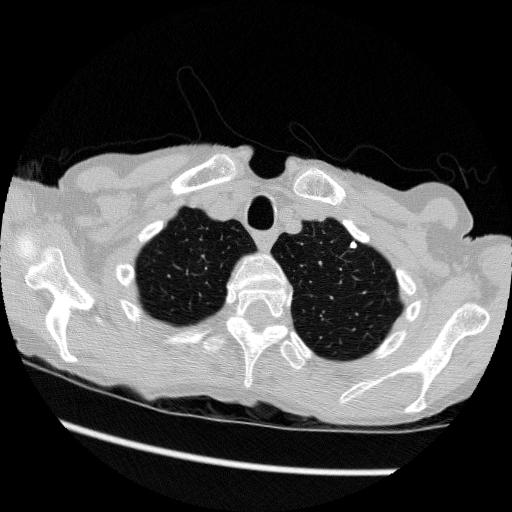nodule: (346, 239, 360, 253)
